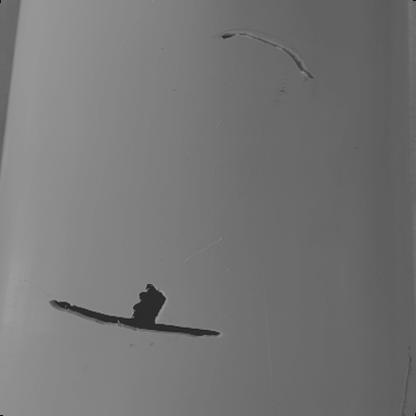fengxi: (48, 300, 222, 338), (220, 30, 316, 79)
kongdong: (131, 282, 169, 323)
